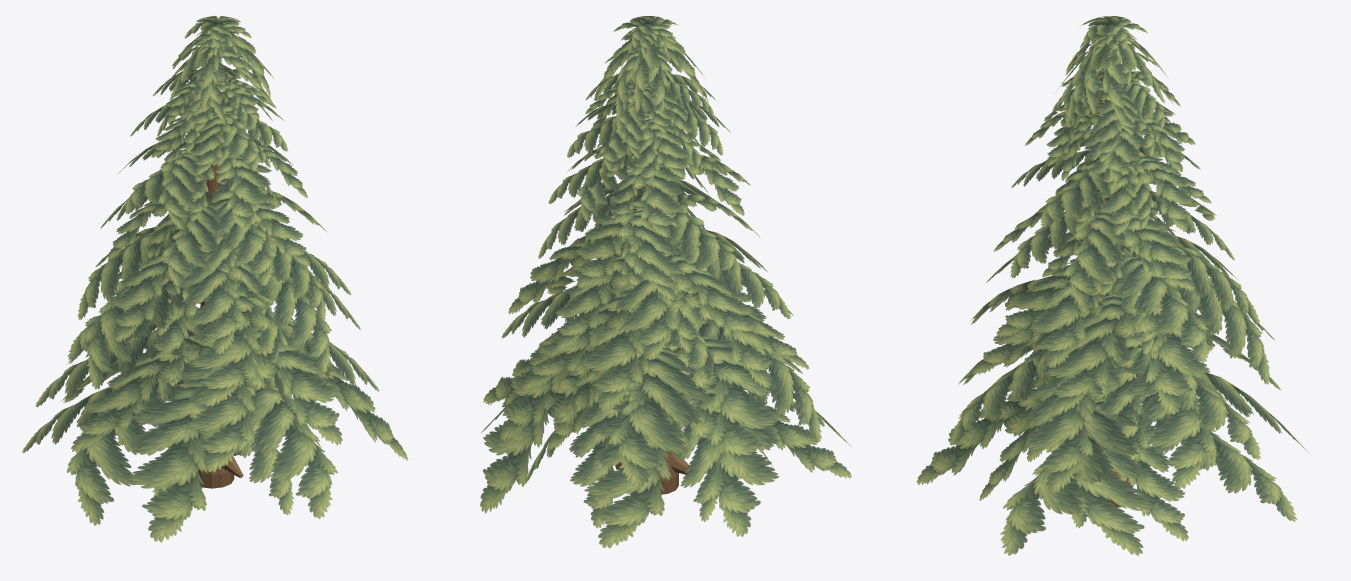
Rendered from fir_soft_v4.glb.
3 renders of one model, left to right at view 1: azimuth 30°, elevation 25°; view 2: azimuth 150°, elevation 25°; view 3: azimuth 270°, elevation 25°, orthographic. The views are drawn at different scales.
Visible parts, largest first — view 1: fir_soft_v4; view 2: fir_soft_v4; view 3: fir_soft_v4.
Part boxes in pixels (x1=…): fir_soft_v4: x1=22, y1=16, x2=408, y2=542; fir_soft_v4: x1=480, y1=16, x2=851, y2=548; fir_soft_v4: x1=916, y1=16, x2=1309, y2=555.
Size of the model in its own units: 4.4 by 5.25 by 4.29.
Materials: 4 (4 with a texture image).
